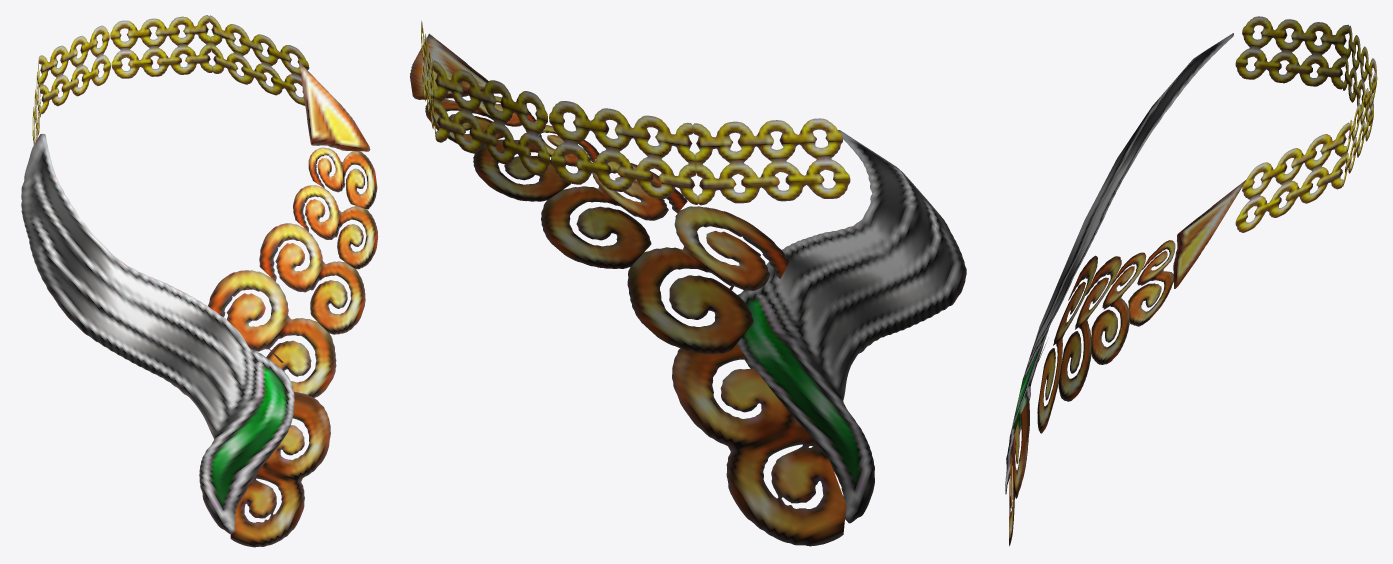
The model's file is 171-chouhaixianglian.FBX.
3 views of the same model, side by side, from view 1: azimuth 30°, elevation 25°; view 2: azimuth 150°, elevation 25°; view 3: azimuth 270°, elevation 25° (orthographic). The views are drawn at different scales.
Visible parts, largest first — view 1: 171; view 2: 171; view 3: 171.
Boxes of the visible parts, x1,y1,x2,y2 form: 171: [21, 15, 378, 547]; 171: [410, 21, 966, 546]; 171: [1005, 16, 1377, 546].
Bounding box in the file's own units: 42.72 × 47.84 × 34.02.
Materials: 1 (1 with a texture image).
